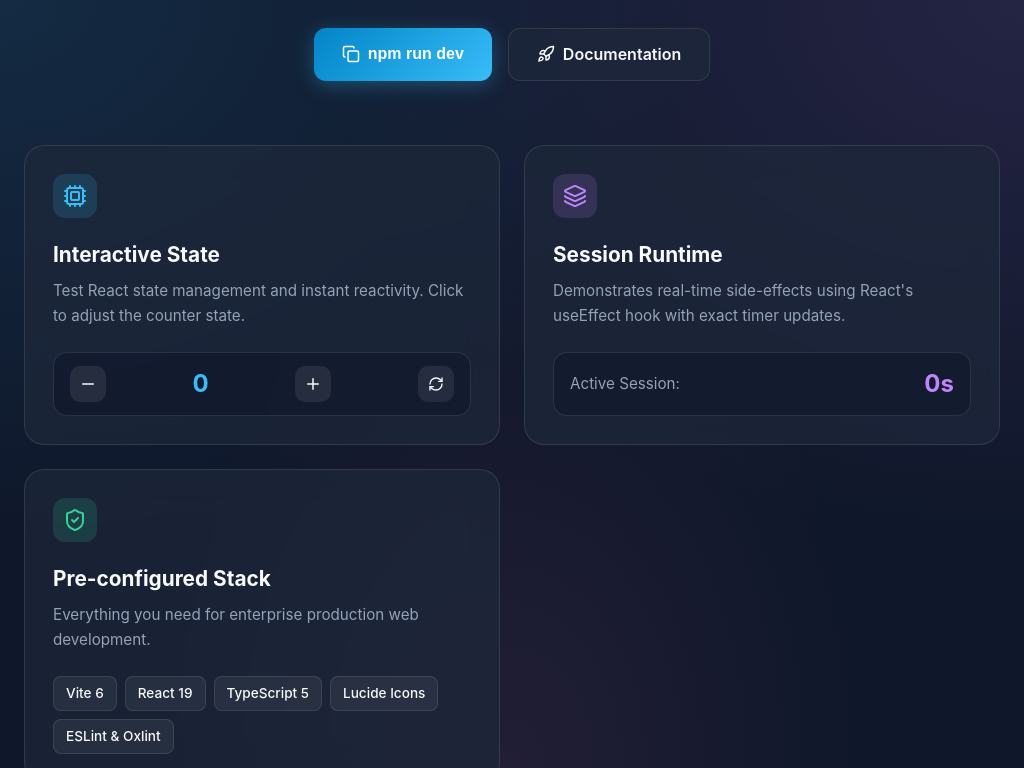
Test case: App Component › increments counter state when increment button is clicked
(page scrolled)
Expected: the text "0" is shown, [193, 365, 209, 403]
Click the button named "increment".
click(313, 384)  # box [295, 366, 331, 402]
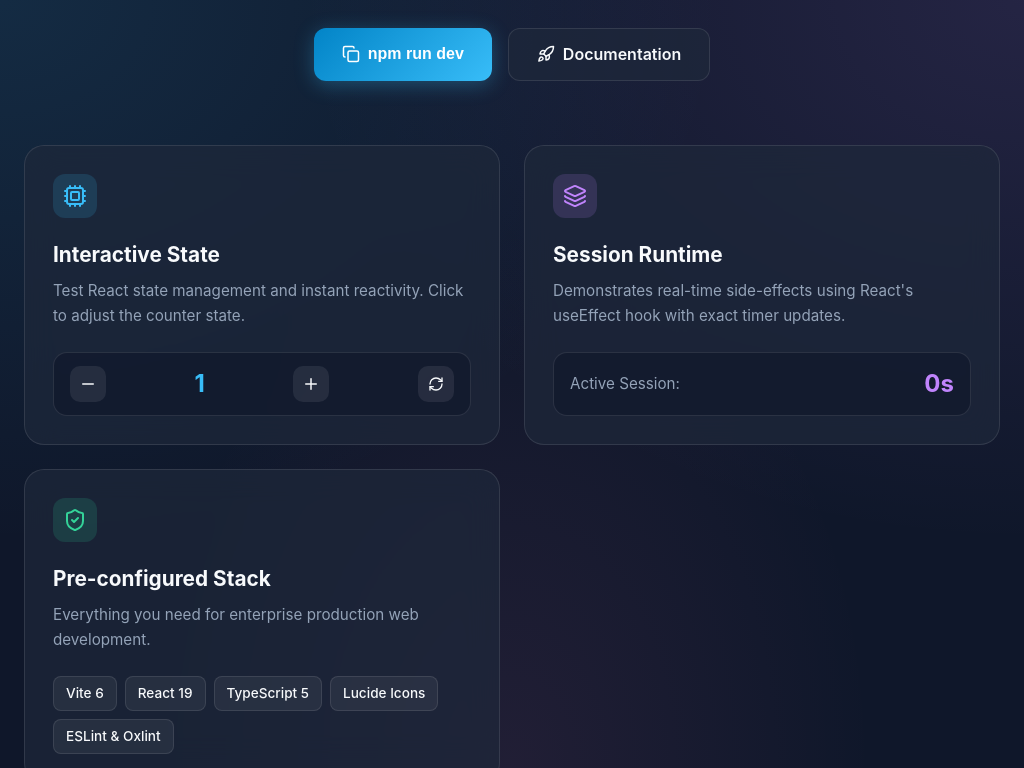
Expected: the text "1" is shown, [194, 365, 205, 403]
Click the button named "increment".
click(312, 384)  # box [294, 366, 330, 402]
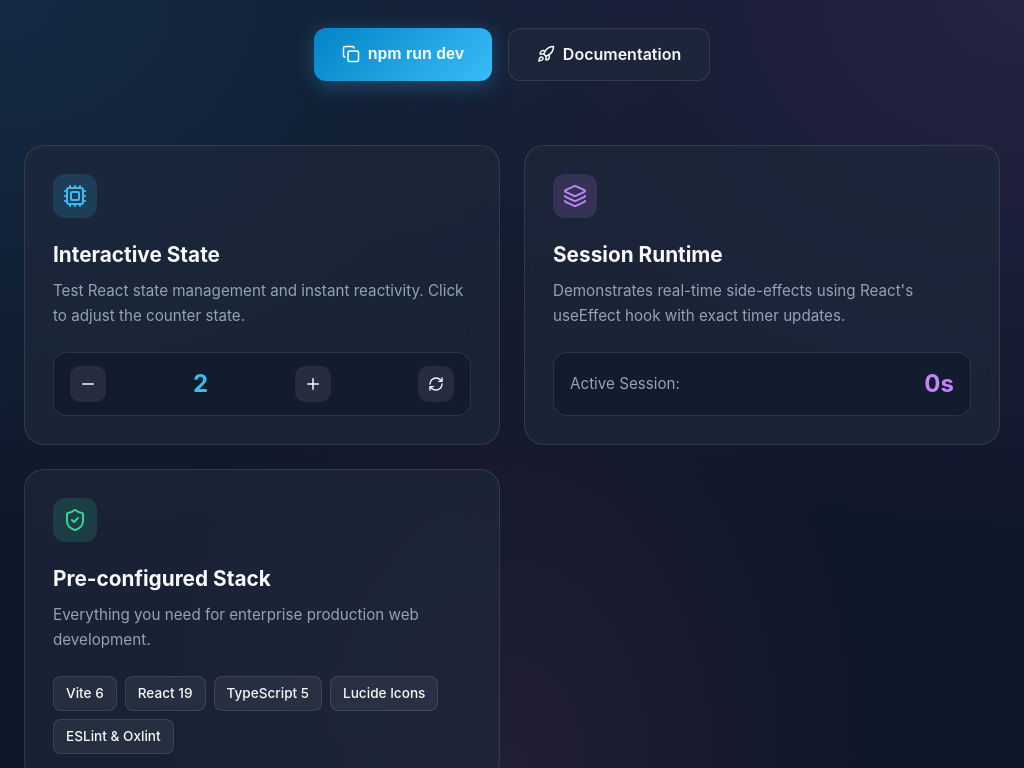
Expected: the text "2" is shown, [193, 365, 208, 403]
